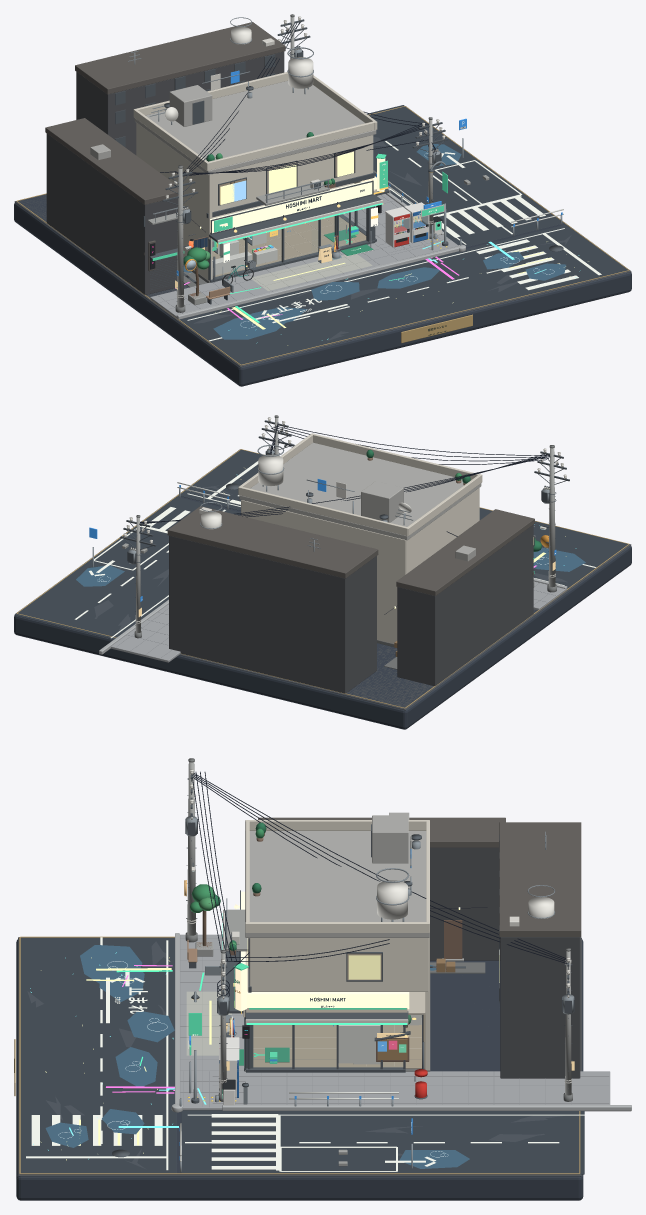
Rendered from rainy_konbini.glb.
3 views of the same model, one above another, from view 1: azimuth 30°, elevation 25°; view 2: azimuth 150°, elevation 25°; view 3: azimuth 270°, elevation 25° (orthographic). The views are drawn at different scales.
Parts seen in each view (by area): view 1: AsphaltSouth, Plinth, NeighborBody, AsphaltEast, RoofSlab, BackBlockParapet, SidewalkSouth, BackBlock, NeighborParapet, UpperFacade, StoreLeftWall, InteriorFloor (+26 smaller); view 2: BackBlock, Plinth, NeighborBody, AsphaltEast, RoofSlab, BackBlockParapet, StoreBackWall, AsphaltSouth, NeighborParapet, PlinthTop, StoreLeftWall, SidewalkEast (+11 smaller); view 3: AsphaltSouth, Plinth, AsphaltEast, RoofSlab, SidewalkEast, BackBlock, BackBlockParapet, UpperFacade, NeighborBody, SidewalkSouth, InteriorFloor, SignBoxE (+30 smaller).
Part boxes in pixels (<box>): AsphaltSouth: <box>180,224,629,365</box>; Plinth: <box>14,194,631,386</box>; NeighborBody: <box>46,133,177,294</box>; AsphaltEast: <box>367,105,564,247</box>; RoofSlab: <box>134,81,376,174</box>; BackBlockParapet: <box>75,22,285,94</box>; SidewalkSouth: <box>150,242,441,318</box>; BackBlock: <box>76,51,284,154</box>; NeighborParapet: <box>45,118,183,204</box>; UpperFacade: <box>212,135,373,211</box>; StoreLeftWall: <box>136,123,212,281</box>; InteriorFloor: <box>212,216,366,277</box>; BackBlock: <box>169,535,376,693</box>; Plinth: <box>14,496,631,729</box>; NeighborBody: <box>397,524,533,685</box>; AsphaltEast: <box>14,497,240,639</box>; RoofSlab: <box>239,442,481,540</box>; BackBlockParapet: <box>167,506,378,578</box>; StoreBackWall: <box>241,500,405,643</box>; AsphaltSouth: <box>178,449,628,588</box>; NeighborParapet: <box>396,509,534,595</box>; PlinthTop: <box>15,449,631,710</box>; StoreLeftWall: <box>406,488,479,574</box>; SidewalkEast: <box>111,604,180,662</box>; AsphaltSouth: <box>20,937,176,1173</box>; Plinth: <box>16,939,583,1200</box>; AsphaltEast: <box>181,1110,584,1174</box>; RoofSlab: <box>245,831,429,937</box>; SidewalkEast: <box>212,1071,610,1110</box>; BackBlock: <box>500,937,580,1078</box>; BackBlockParapet: <box>499,822,581,936</box>; UpperFacade: <box>249,938,428,991</box>; NeighborBody: <box>430,847,500,960</box>; SidewalkSouth: <box>180,934,245,1107</box>; InteriorFloor: <box>253,1025,424,1068</box>; SignBoxE: <box>247,991,409,1009</box>.
Bounding box in the file's own units: 26.74 × 12.51 × 28.66.
